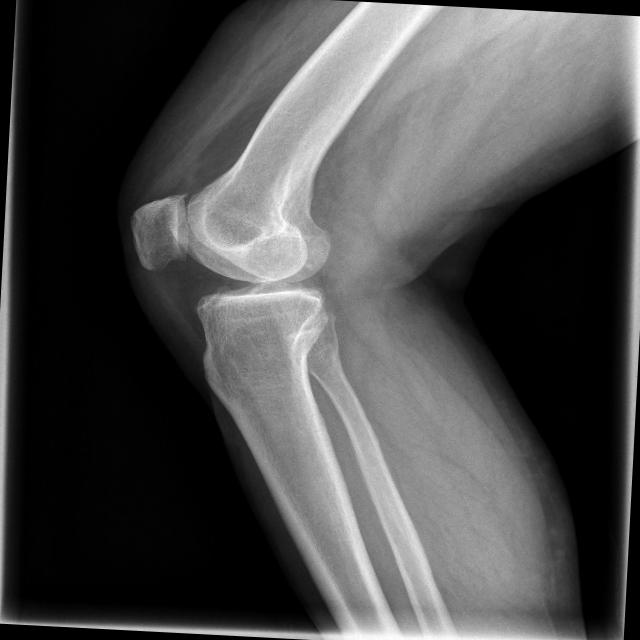Knee: (119, 178, 338, 378)
